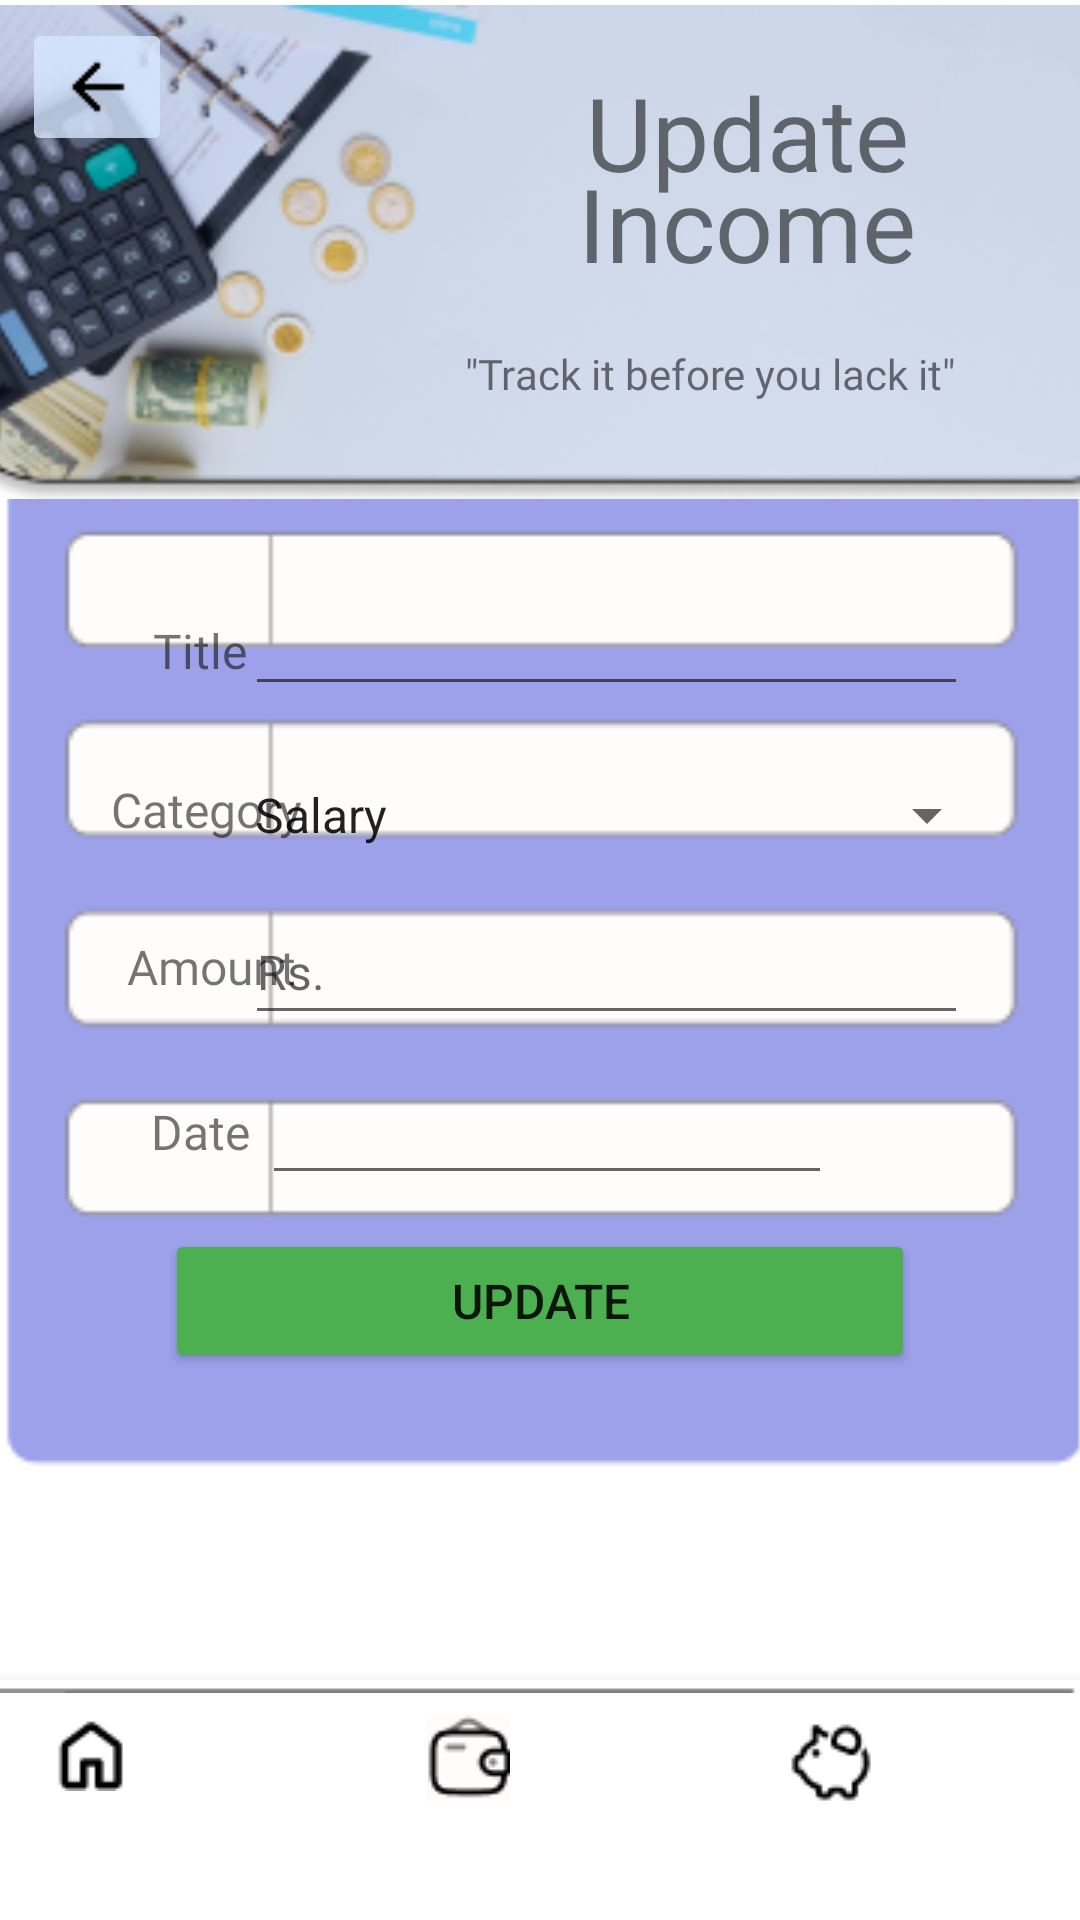

Point at icon controls on the screen. Image size 1080*1920, points as point (x, y).
backbtn: point (97, 87)
homent: point (90, 1756)
savingsel: point (831, 1762)
walletnt: point (469, 1757)
